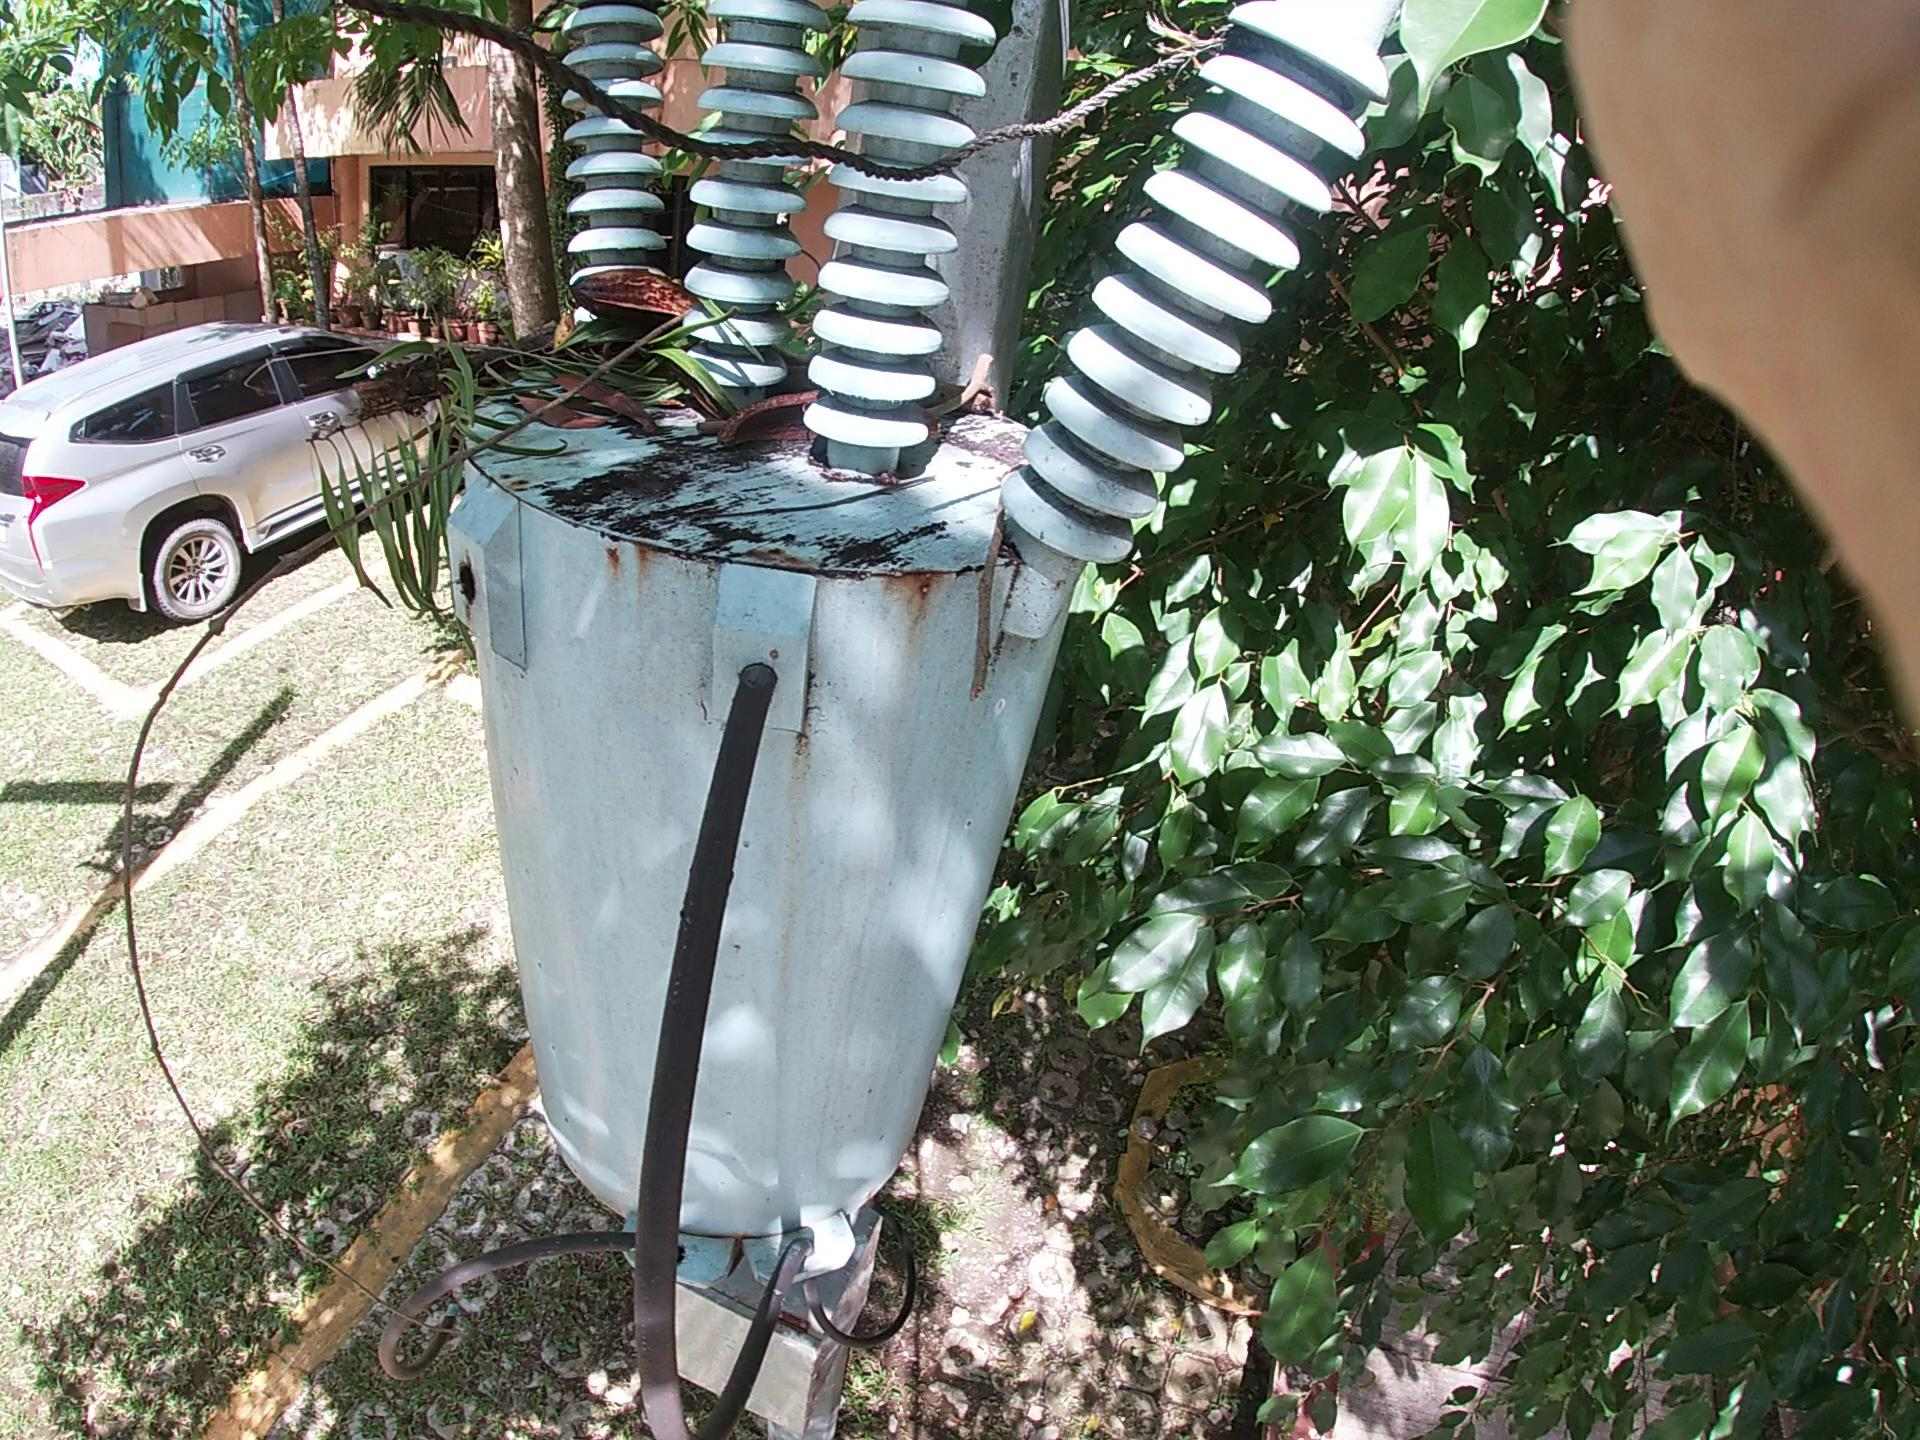branch with leaves: (228, 242, 670, 613)
leaf: (469, 375, 661, 436)
mahogany fruit: (585, 224, 714, 377), (720, 351, 845, 486)
tree branch: (2, 277, 705, 756), (928, 346, 1045, 731), (633, 357, 1048, 464)
